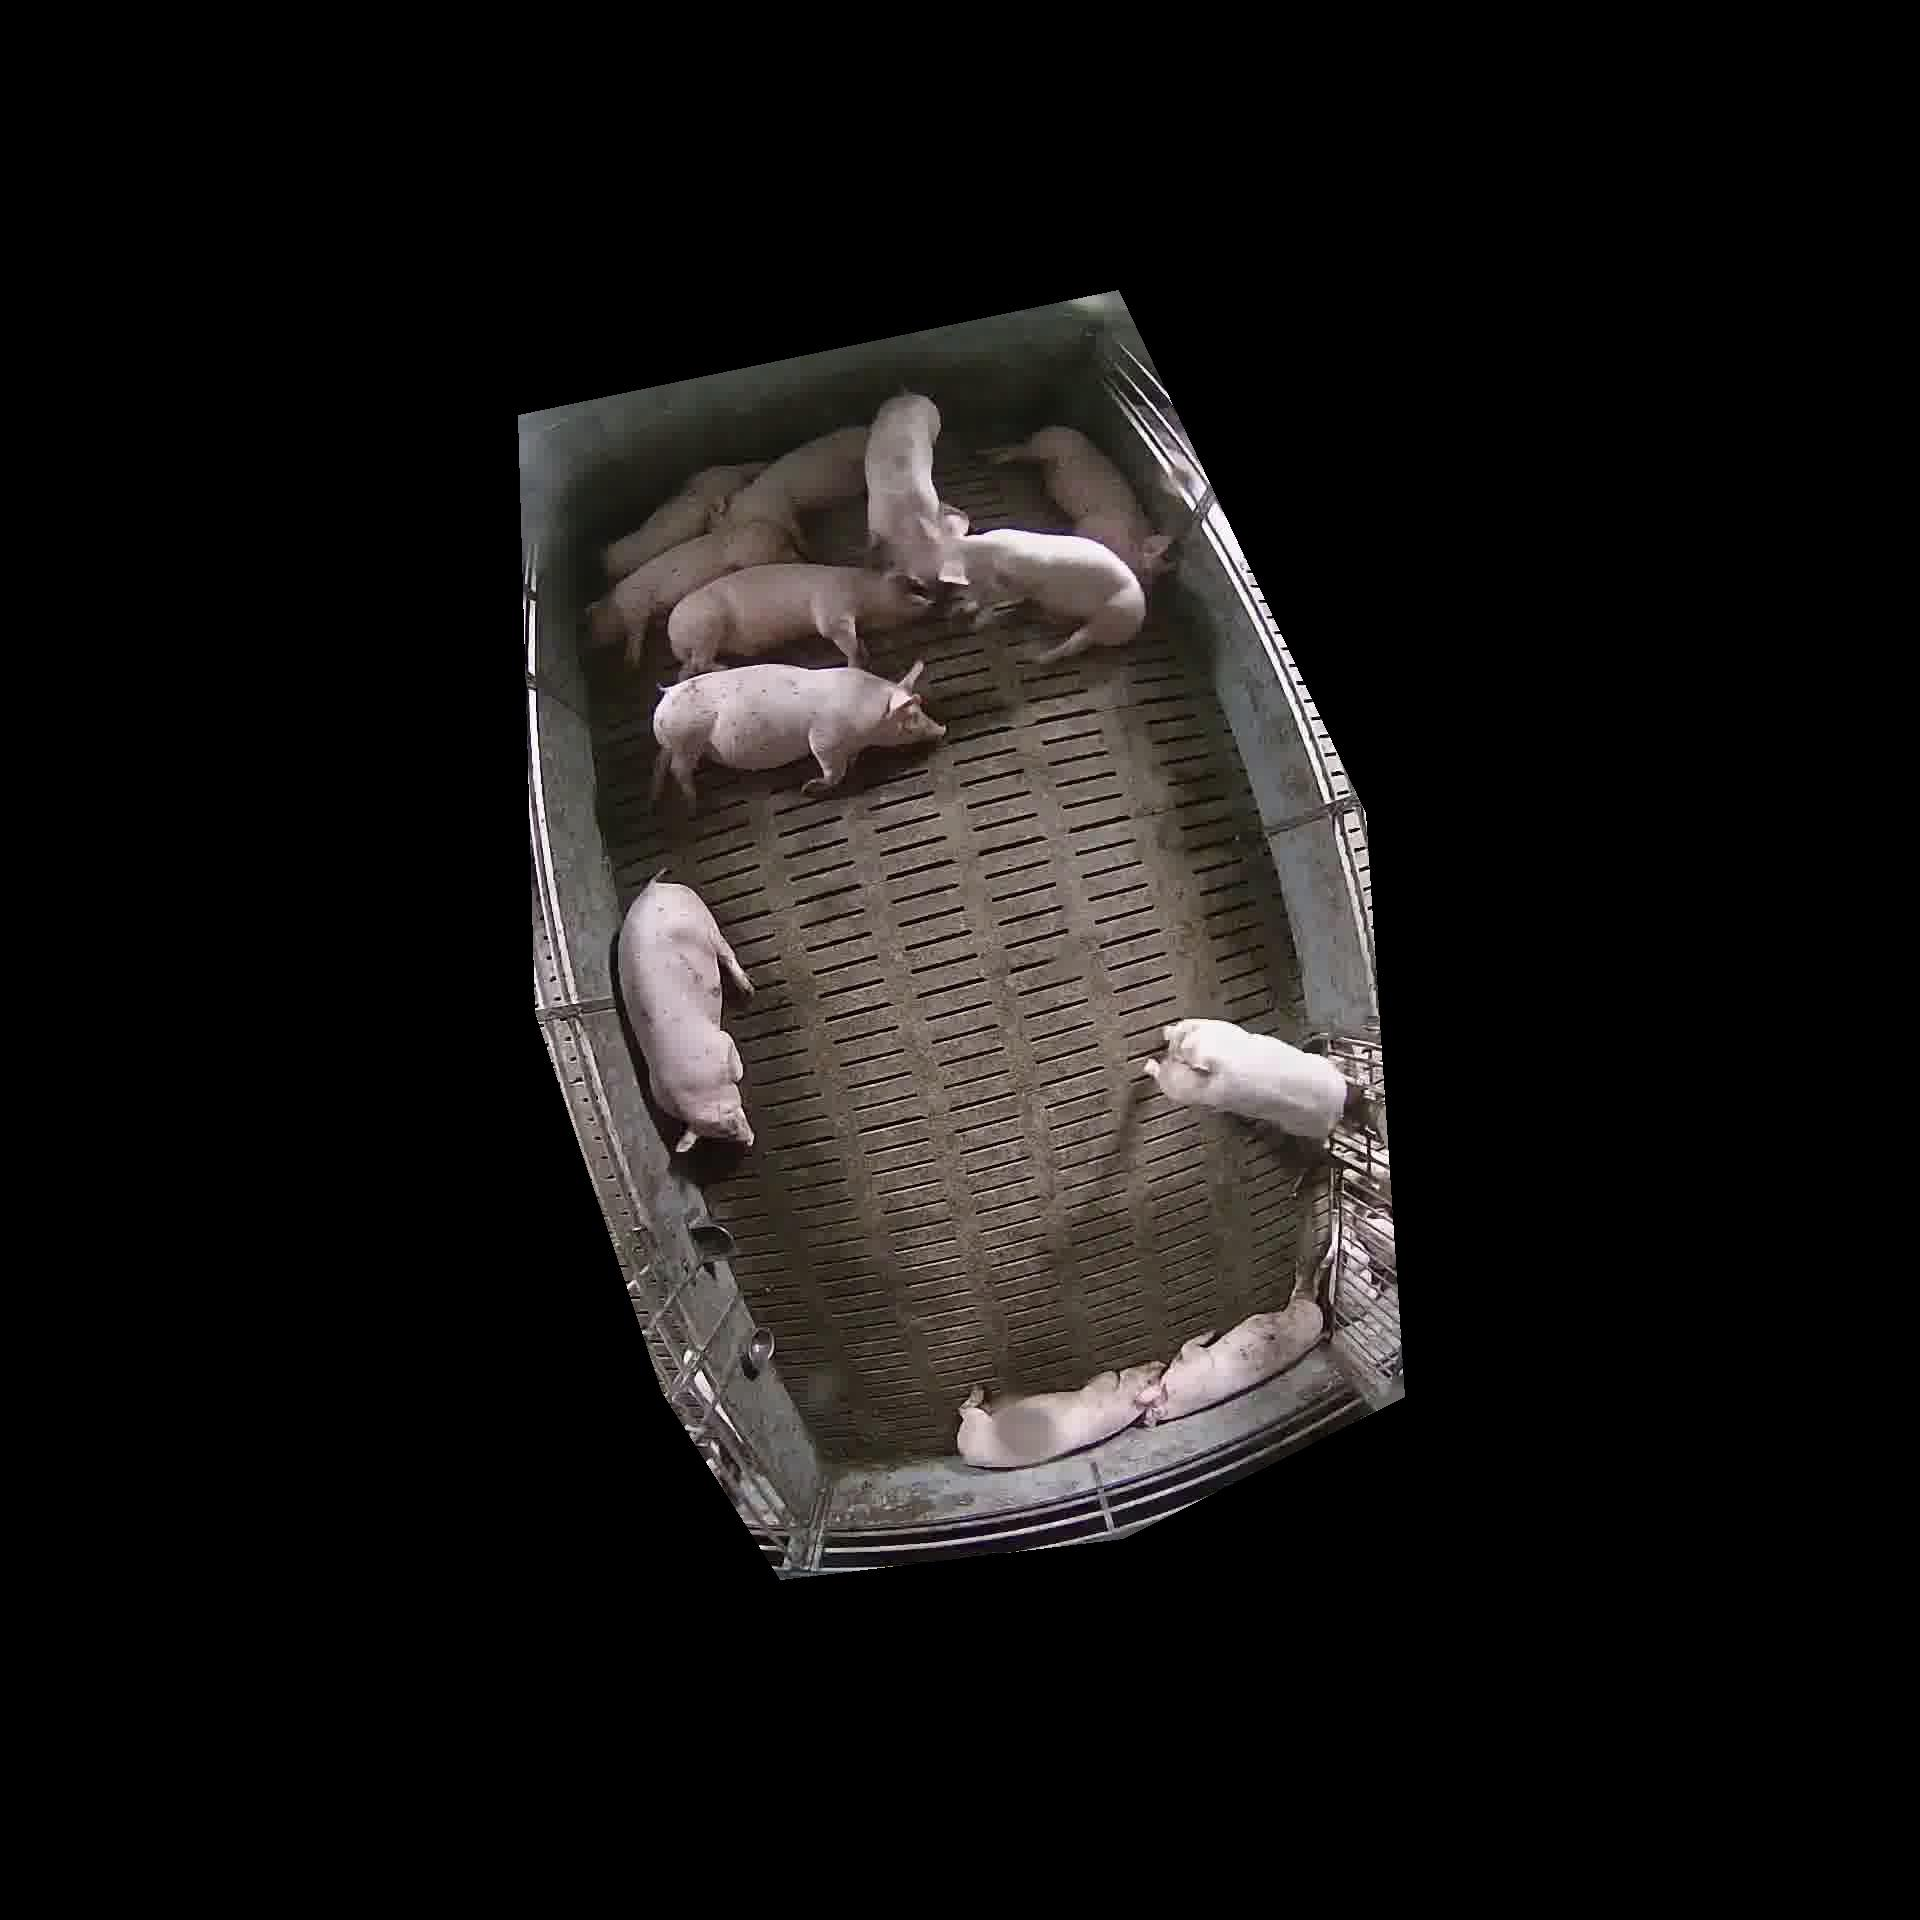pig: (652, 661, 944, 809), (617, 879, 753, 1152), (587, 520, 798, 666), (668, 563, 930, 677), (986, 425, 1171, 584), (941, 529, 1145, 661), (1145, 1020, 1347, 1138), (1143, 1296, 1322, 1422), (956, 1363, 1162, 1466), (603, 462, 765, 580), (863, 390, 965, 571), (723, 425, 867, 543), (949, 571, 965, 582)
